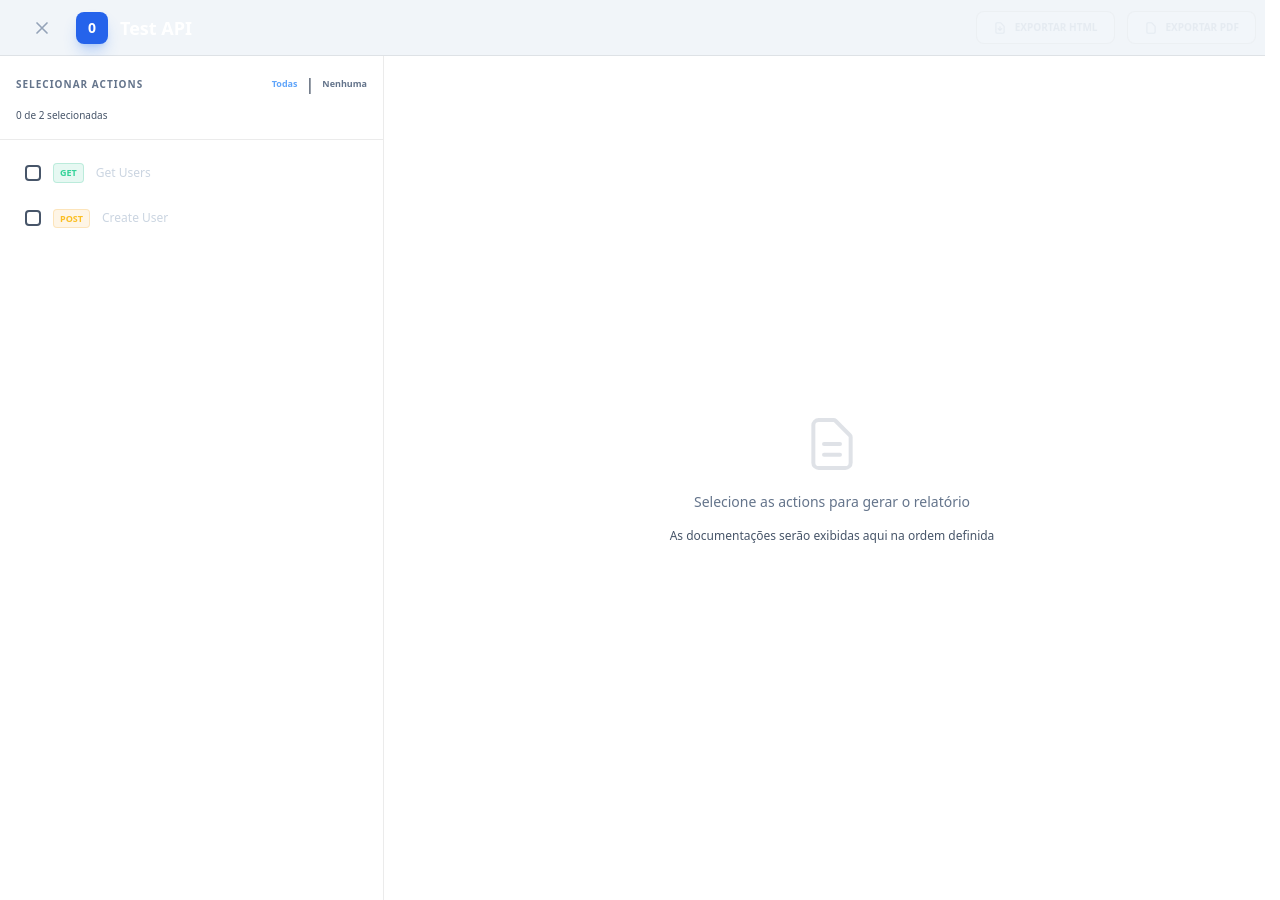
Test case: ReportGeneratorModal › should deselect a request when clicked again
This screenshot has width=1280, height=900.
Note: First click selects
Click the text "Get Users": (123, 173) left=96, top=165, right=151, bottom=181
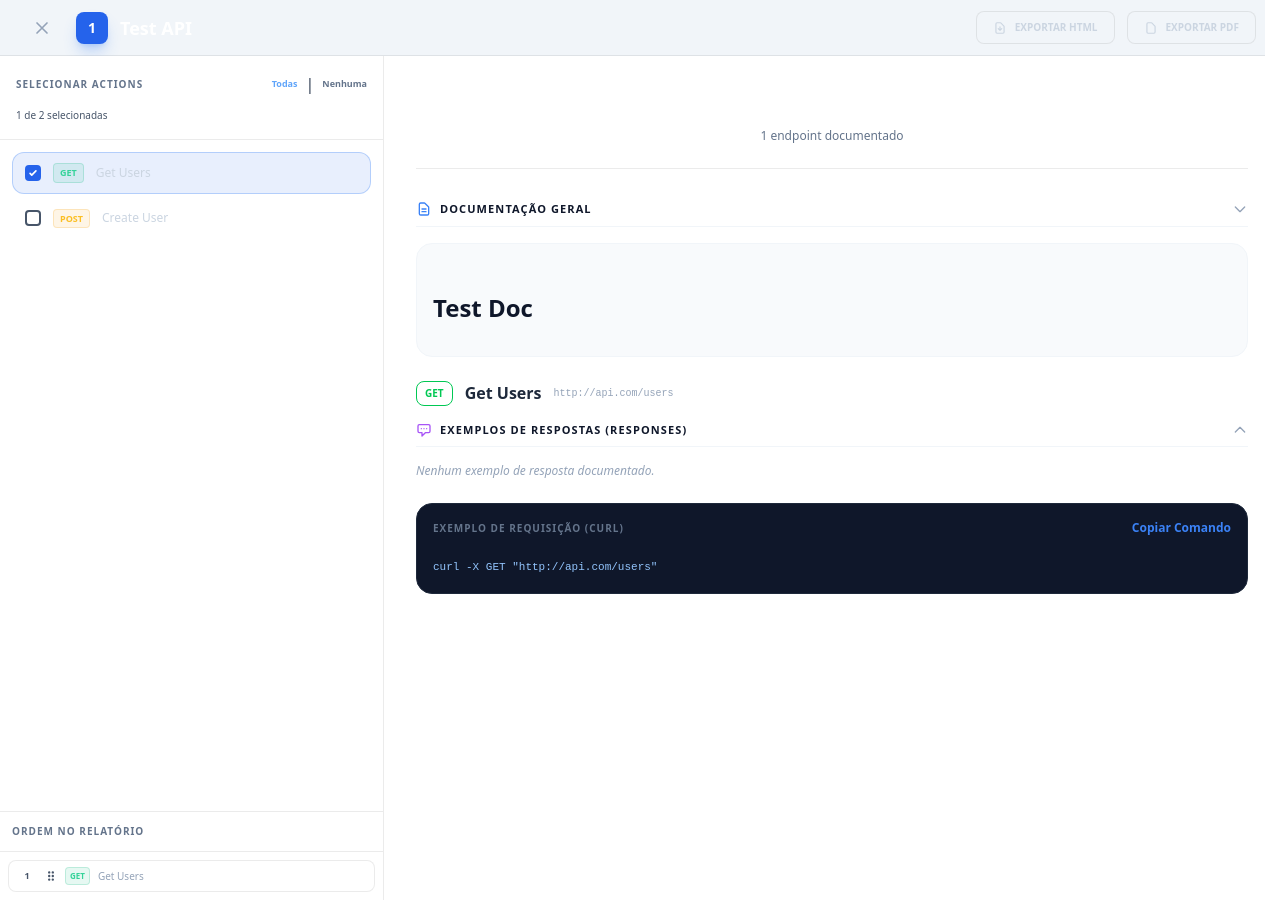
Check: the text "1 de 2 selecionadas" is shown, box left=16, top=108, right=108, bottom=122
Click the 1st text "Get Users": (123, 173) left=96, top=165, right=151, bottom=181
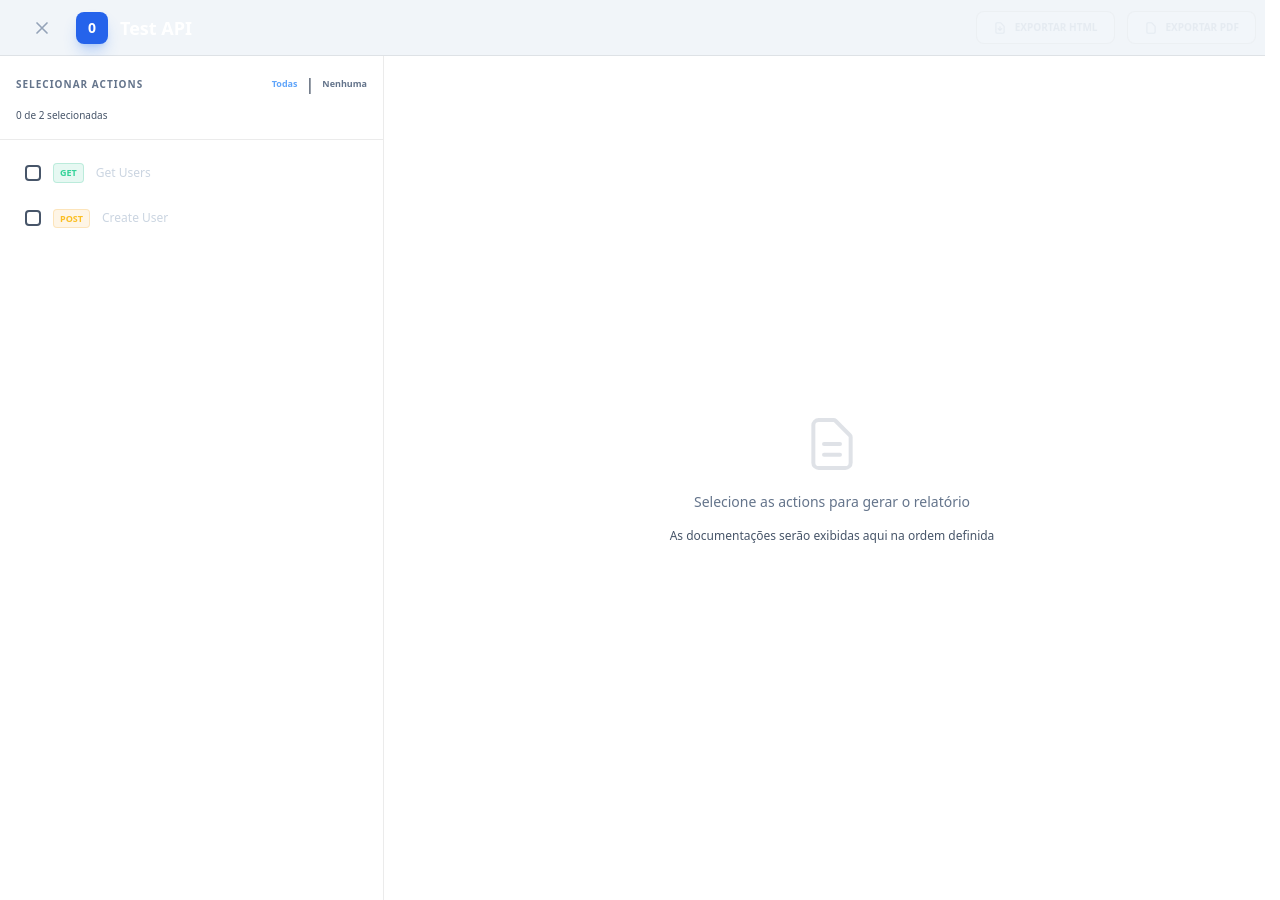
Check: the text "0 de 2 selecionadas" is shown, box left=16, top=108, right=108, bottom=122
